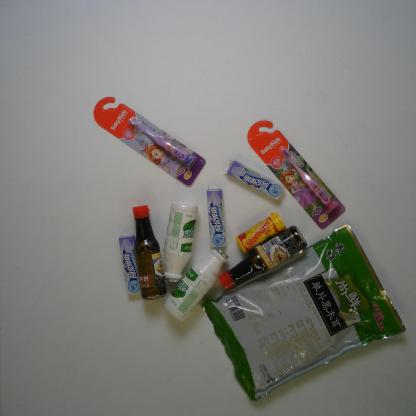Candy: (223, 158, 286, 202), (236, 211, 287, 253), (118, 234, 142, 295), (206, 184, 227, 248)
Dried Food: (201, 223, 406, 402)
Milk: (163, 246, 228, 322), (163, 202, 199, 283)
Personal Hygiene: (247, 121, 346, 232), (92, 96, 206, 188)
Seasoner: (218, 224, 308, 291), (131, 204, 168, 300)
